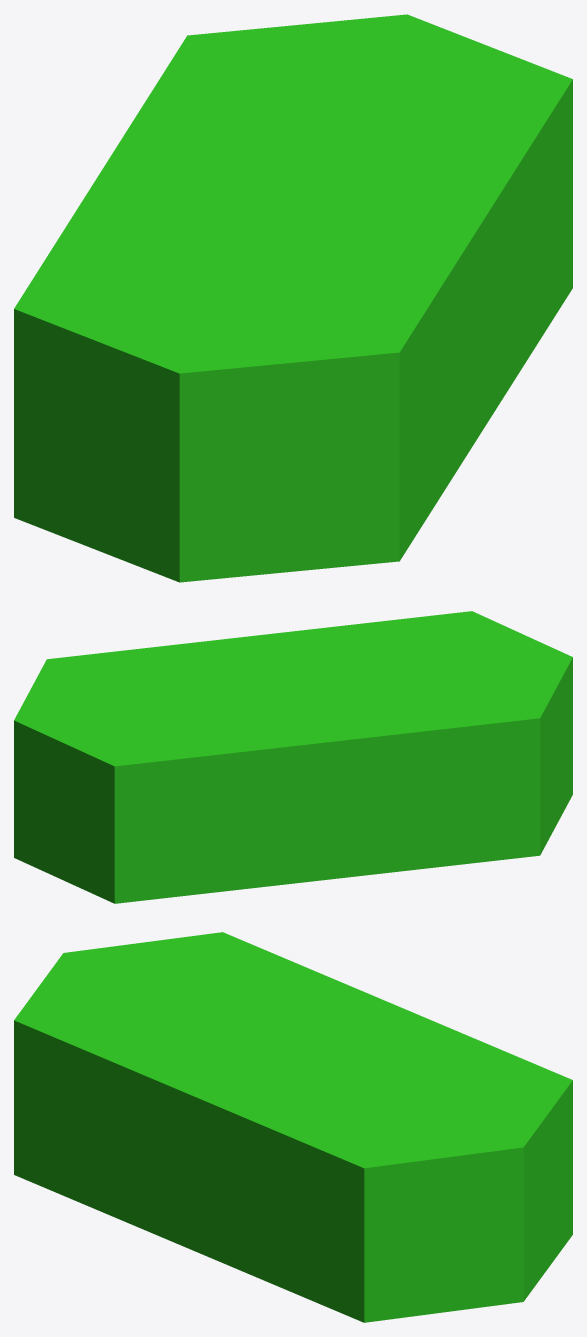
The model's file is NormalContent.fbx.
3 views of the same model, one above another, from view 1: azimuth 30°, elevation 25°; view 2: azimuth 150°, elevation 25°; view 3: azimuth 270°, elevation 25° (orthographic). The views are drawn at different scales.
Visible parts, largest first — view 1: Model; view 2: Model; view 3: Model.
Part boxes in pixels (left/top/right/bottom): Model: left=14, top=14, right=572, bottom=582; Model: left=14, top=611, right=572, bottom=903; Model: left=14, top=932, right=572, bottom=1322.
Size of what is drawn, in the model's own units: 1.01 by 0.308 by 1.01.
